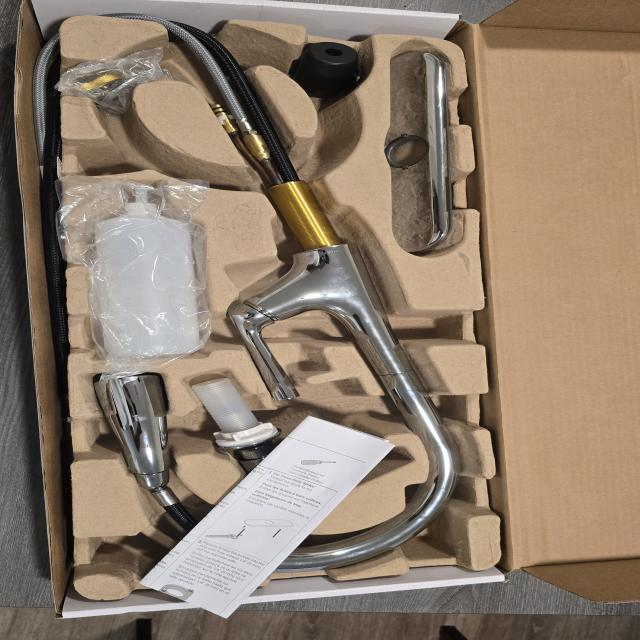1o: (92, 31, 457, 575)
2o: (193, 380, 382, 500)
3: (95, 185, 206, 355)
4: (382, 51, 451, 253)
5: (287, 39, 361, 99)
6: (57, 48, 165, 113)
7m: (82, 143, 178, 174)
8: (137, 415, 400, 620)
